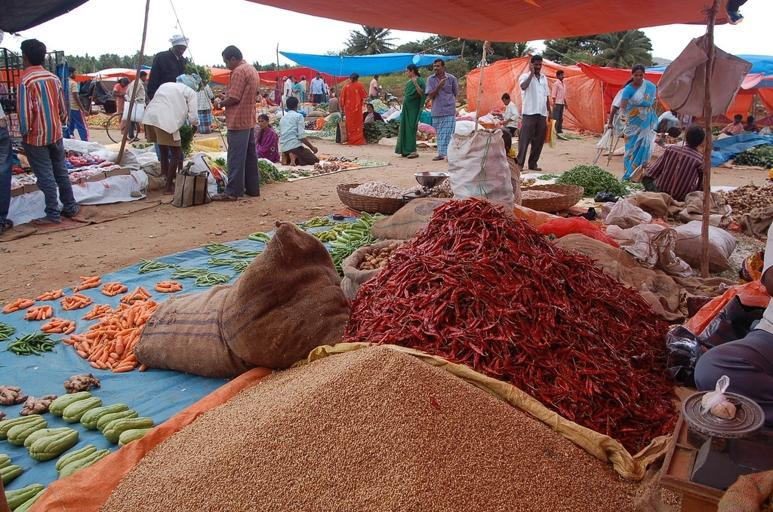non-vehicle: (103, 90, 142, 148), (380, 90, 401, 111)
